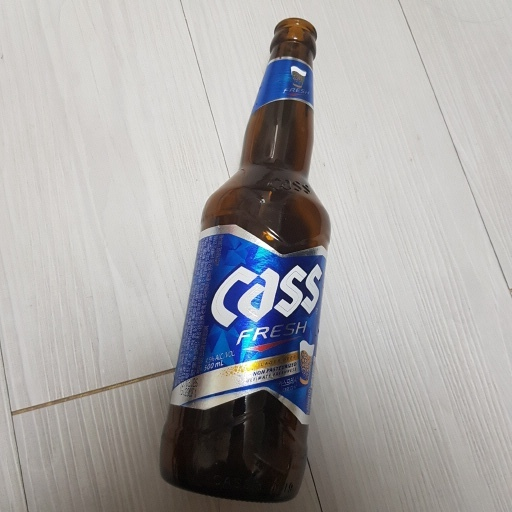Glass_1: (156, 14, 341, 505)
